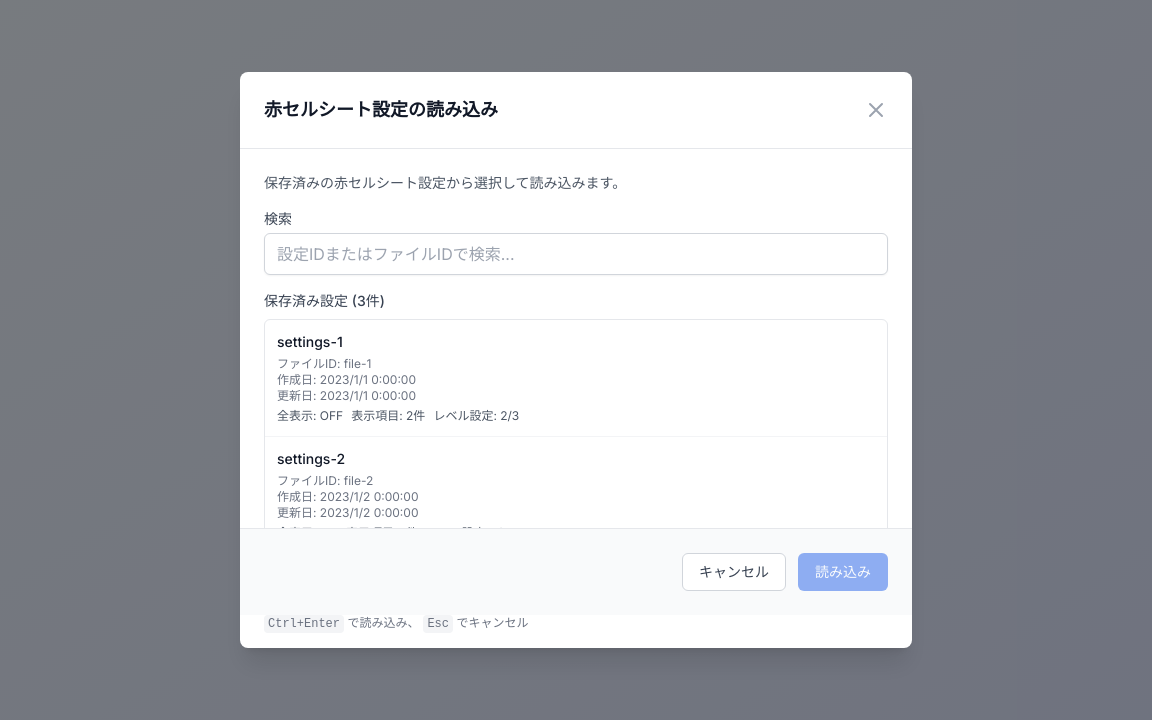
RedactionLoadDialog › 検索・フィルタ機能 › should clear selection when search query changes
Click the element with test id "setting-item-settings-1" at (576, 378), box [265,320,887,437]
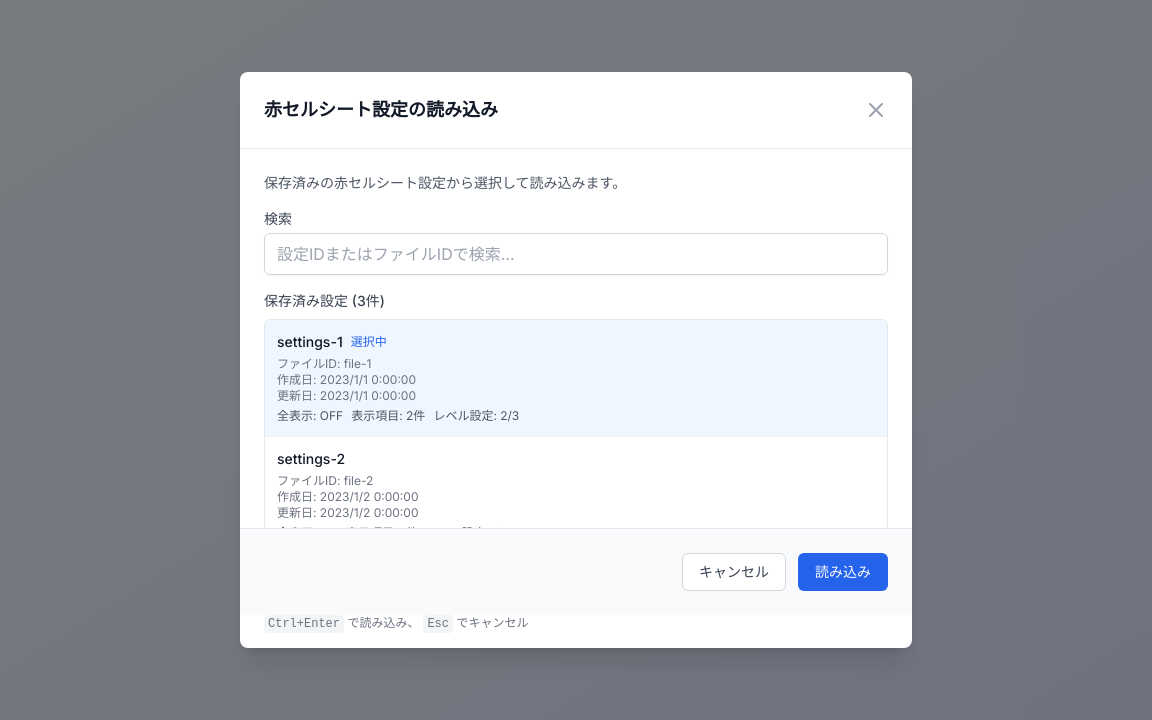
Check: the text "選択中" is shown, box [351,334,387,350]
検索クエリを変更
Type "test" into the field with test id "search-input" at (576, 254), box [264,233,888,275]
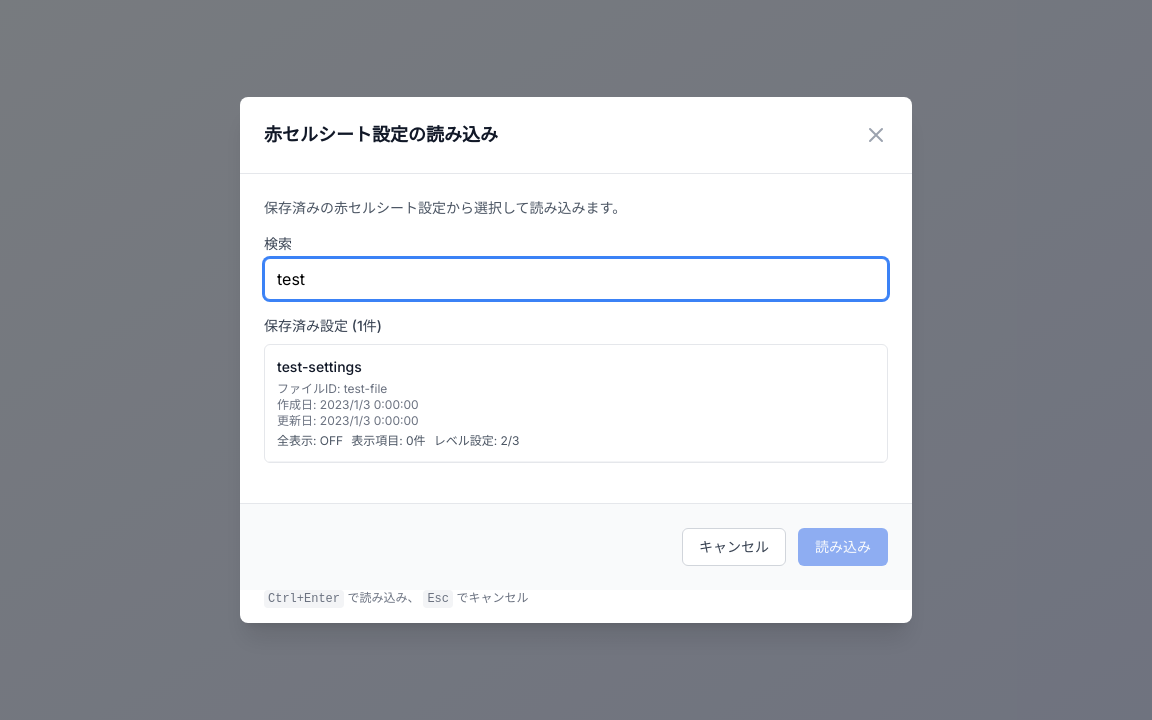
Check: the text "選択中" is gone
